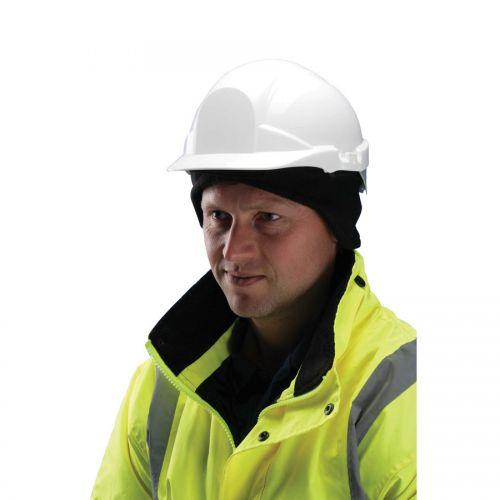helmet: (166, 60, 370, 178)
